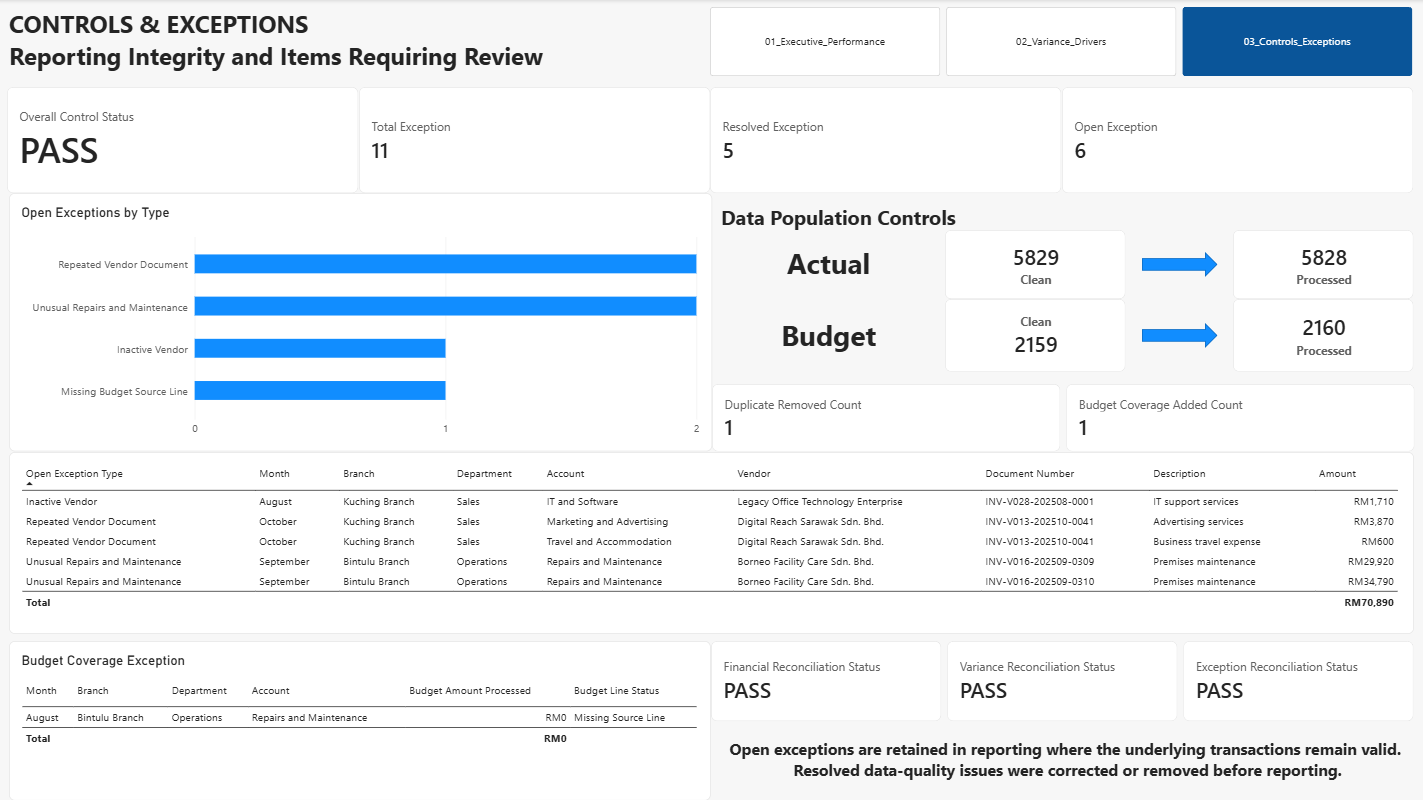

The dashboard page shown, as its layout file describes it:
{"tool":"powerbi","page":{"name":"03_Controls_Exceptions","canvas":[1920,1080],"ordinal":3},"visuals":[{"type":"textbox","box":[12.9,11.3,944.7,105],"z":0},{"type":"cardVisual","fields":{"Data":["_Measures.Resolved Exception Count"]},"box":[958.4,118.2,473.6,143.8],"z":0,"group":"g1"},{"type":"cardVisual","fields":{"Data":["_Measures.Actual Clean Row Count"]},"box":[1273.3,311.7,243.3,93.2],"z":0,"group":"g2"},{"type":"group","id":"g1","title":"Group 1","box":[11.2,118.2,1894.4,143.8],"z":1000},{"type":"cardVisual","fields":{"Data":["_Measures.Total Exception Count"]},"box":[484.8,118.2,473.6,143.8],"z":2000,"group":"g1"},{"type":"textbox","box":[971.7,275,498.3,36.7],"z":2000},{"type":"cardVisual","fields":{"Data":["_Measures.Actual Row Count"]},"box":[1661.6,311.7,243.3,93.2],"z":2000,"group":"g2"},{"type":"cardVisual","fields":{"Data":["_Measures.Overall Control Status"]},"box":[11.2,118.2,473.6,143.8],"z":3000,"group":"g1"},{"type":"clusteredBarChart","title":"Open Exceptions by Type","fields":{"Category":["Exception_Type.Exception Type"],"Y":["_Measures.Open Exception Type Count"]},"box":[13.3,261.7,946.7,348.3],"z":3000},{"type":"cardVisual","fields":{"Data":["_Measures.Budget Clean Row Count"]},"box":[1273.3,404.9,243.3,98.4],"z":3000,"group":"g2"},{"type":"cardVisual","fields":{"Data":["_Measures.Open Exception Count"]},"box":[1432,118.2,473.6,143.8],"z":4000,"group":"g1"},{"type":"cardVisual","fields":{"Data":["_Measures.Budget Row Count"]},"box":[1661.6,404.9,243.3,98.4],"z":4000,"group":"g2"},{"type":"cardVisual","fields":{"Data":["_Measures.Duplicate Removed Count","_Measures.Budget Coverage Added Count"]},"box":[960,518.3,946.7,91.7],"z":4000},{"type":"textbox","box":[971.7,330,290,55],"z":5000},{"type":"tableEx","fields":{"Values":["fact_Actual.Open Exception Type","dim_Month.MonthName","dim_Branch.BranchName","dim_Department.DepartmentName","dim_Account.AccountName","dim_Vendor.VendorName","fact_Actual.DocumentNumber","fact_Actual.Description_Processed","Sum(fact_Actual.Amount)"]},"box":[13.3,610,1891.7,245],"z":6000},{"type":"shape","box":[1538.3,341.3,101.7,33.5],"z":7000,"group":"g2"},{"type":"textbox","box":[971.7,426.7,290,53.3],"z":7000},{"type":"shape","box":[1538.3,437.1,101.7,33.5],"z":8000,"group":"g2"},{"type":"tableEx","title":"Budget Coverage Exception","fields":{"Values":["dim_Month.MonthName","dim_Branch.BranchName","dim_Department.DepartmentName","dim_Account.AccountName","Sum(fact_Budget.BudgetAmount_Processed)","fact_Budget.BudgetLineStatus"]},"box":[13.3,865,945,215],"z":8000},{"type":"cardVisual","fields":{"Data":["_Measures.Financial Reconciliation Status","_Measures.Variance Reconciliation Status","_Measures.Exception Reconciliation Status"]},"box":[958.3,865,946.7,108.3],"z":9000},{"type":"textbox","box":[971.7,995,933.3,85],"z":10000},{"type":"group","id":"g2","title":"Group 2","box":[1273.3,311.7,631.7,191.7],"z":11000},{"type":"pageNavigator","box":[957.6,11.3,946.3,93.7],"z":11001}]}

Visuals, with their boxes in screenshot pixels (x1, y1, x2, y2), scaled from the page's 1920x1080 canvas onto the 1423x800 screenshot:
textbox: (10,8,710,86)
cardVisual - _Measures.Resolved Exception Count: (710,88,1061,194)
cardVisual - _Measures.Actual Clean Row Count: (944,231,1124,300)
"Group 1" group: (8,88,1412,194)
cardVisual - _Measures.Total Exception Count: (359,88,710,194)
textbox: (720,204,1089,231)
cardVisual - _Measures.Actual Row Count: (1231,231,1412,300)
cardVisual - _Measures.Overall Control Status: (8,88,359,194)
"Open Exceptions by Type" clusteredBarChart: (10,194,712,452)
cardVisual - _Measures.Budget Clean Row Count: (944,300,1124,373)
cardVisual - _Measures.Open Exception Count: (1061,88,1412,194)
cardVisual - _Measures.Budget Row Count: (1231,300,1412,373)
cardVisual - _Measures.Duplicate Removed Count x _Measures.Budget Coverage Added Count: (712,384,1413,452)
textbox: (720,244,935,285)
tableEx - fact_Actual.Open Exception Type x dim_Month.MonthName: (10,452,1412,633)
shape: (1140,253,1215,278)
textbox: (720,316,935,356)
shape: (1140,324,1215,349)
"Budget Coverage Exception" tableEx: (10,641,710,799)
cardVisual - _Measures.Financial Reconciliation Status x _Measures.Variance Reconciliation Status: (710,641,1412,721)
textbox: (720,737,1412,799)
"Group 2" group: (944,231,1412,373)
pageNavigator: (710,8,1411,78)
